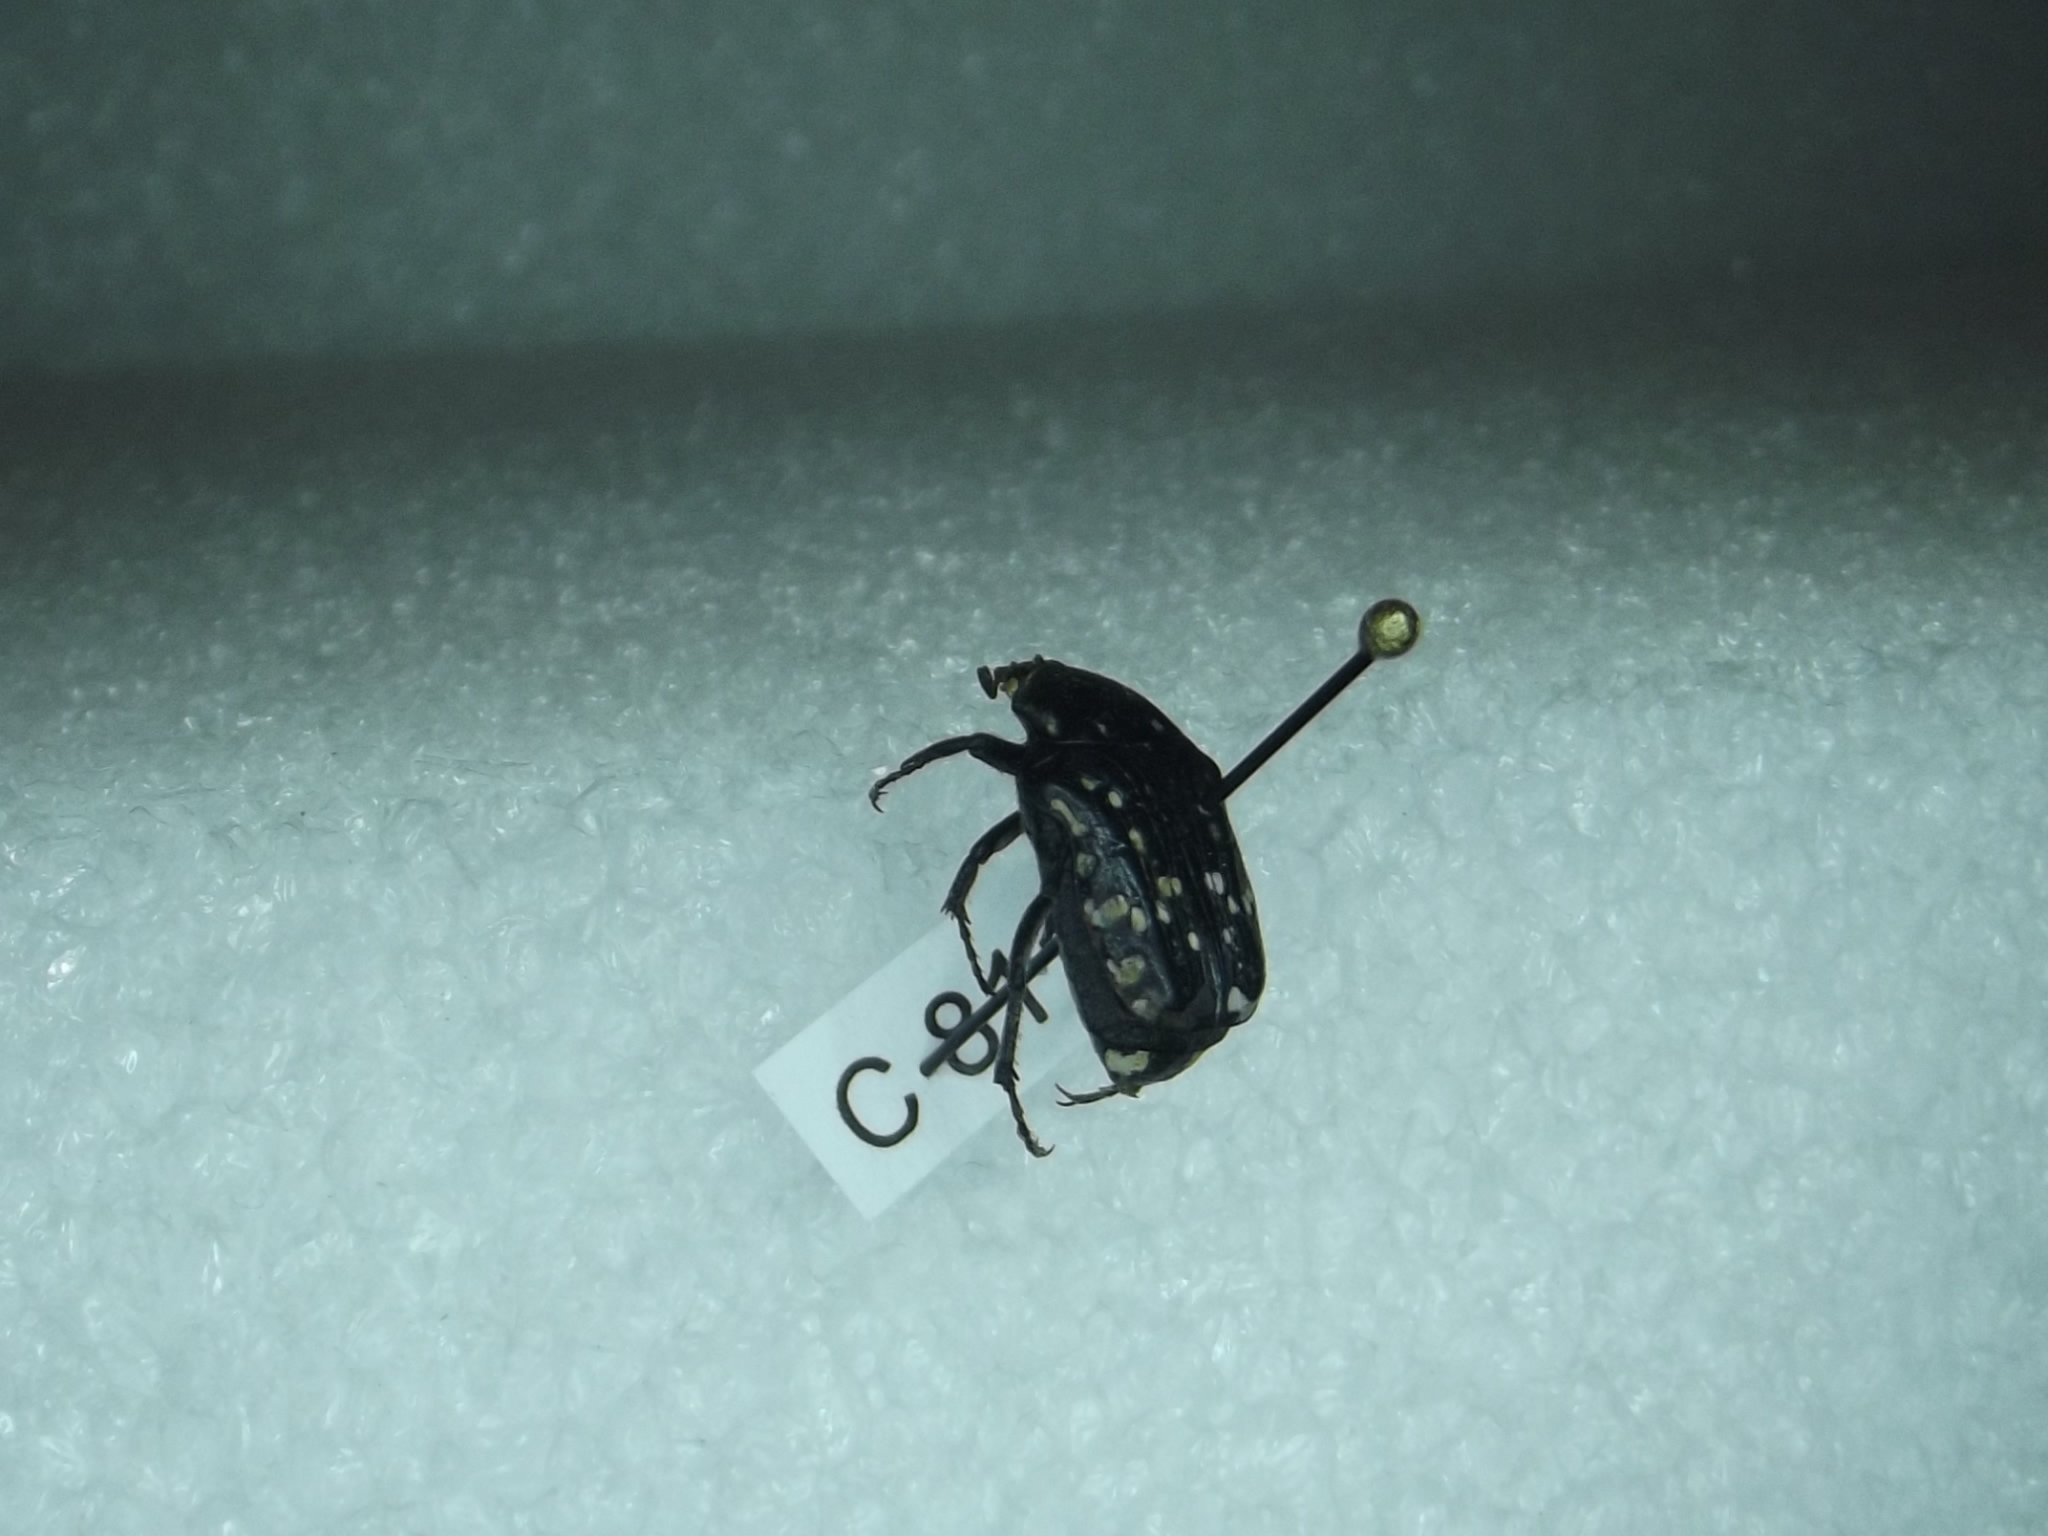Oxythyrea_albopicta: (864, 620, 1297, 1165)
